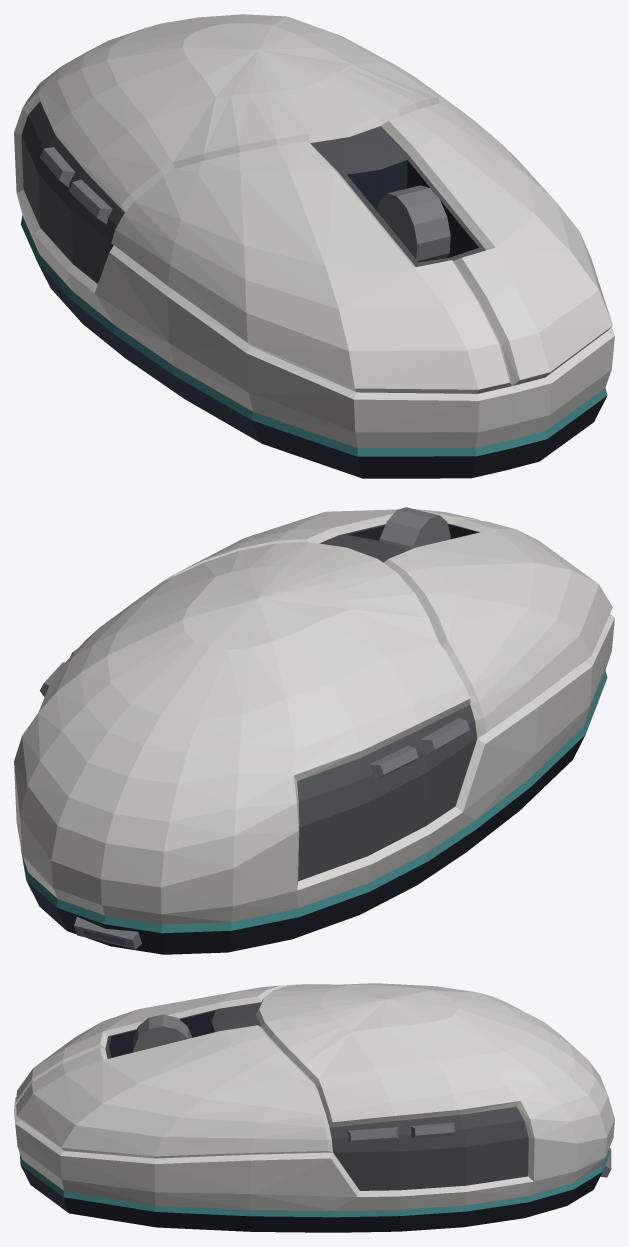
Rendered from mouse.glb.
The picture shows the model from 3 angles, top to bottom: view 1: azimuth 30°, elevation 25°; view 2: azimuth 150°, elevation 25°; view 3: azimuth 270°, elevation 25°; orthographic projection. The views are drawn at different scales.
Visible parts, largest first — view 1: mouse-body, scroll-wheel; view 2: mouse-body, scroll-wheel; view 3: mouse-body, scroll-wheel.
Boxes of the visible parts, x1,y1,x2,y2 form: mouse-body: (14, 14, 614, 478); scroll-wheel: (377, 185, 450, 262); mouse-body: (14, 509, 614, 954); scroll-wheel: (379, 507, 450, 549); mouse-body: (14, 983, 614, 1232); scroll-wheel: (133, 1014, 192, 1052).
Bounding box in the file's own units: 0.0606 × 0.037 × 0.1162.
